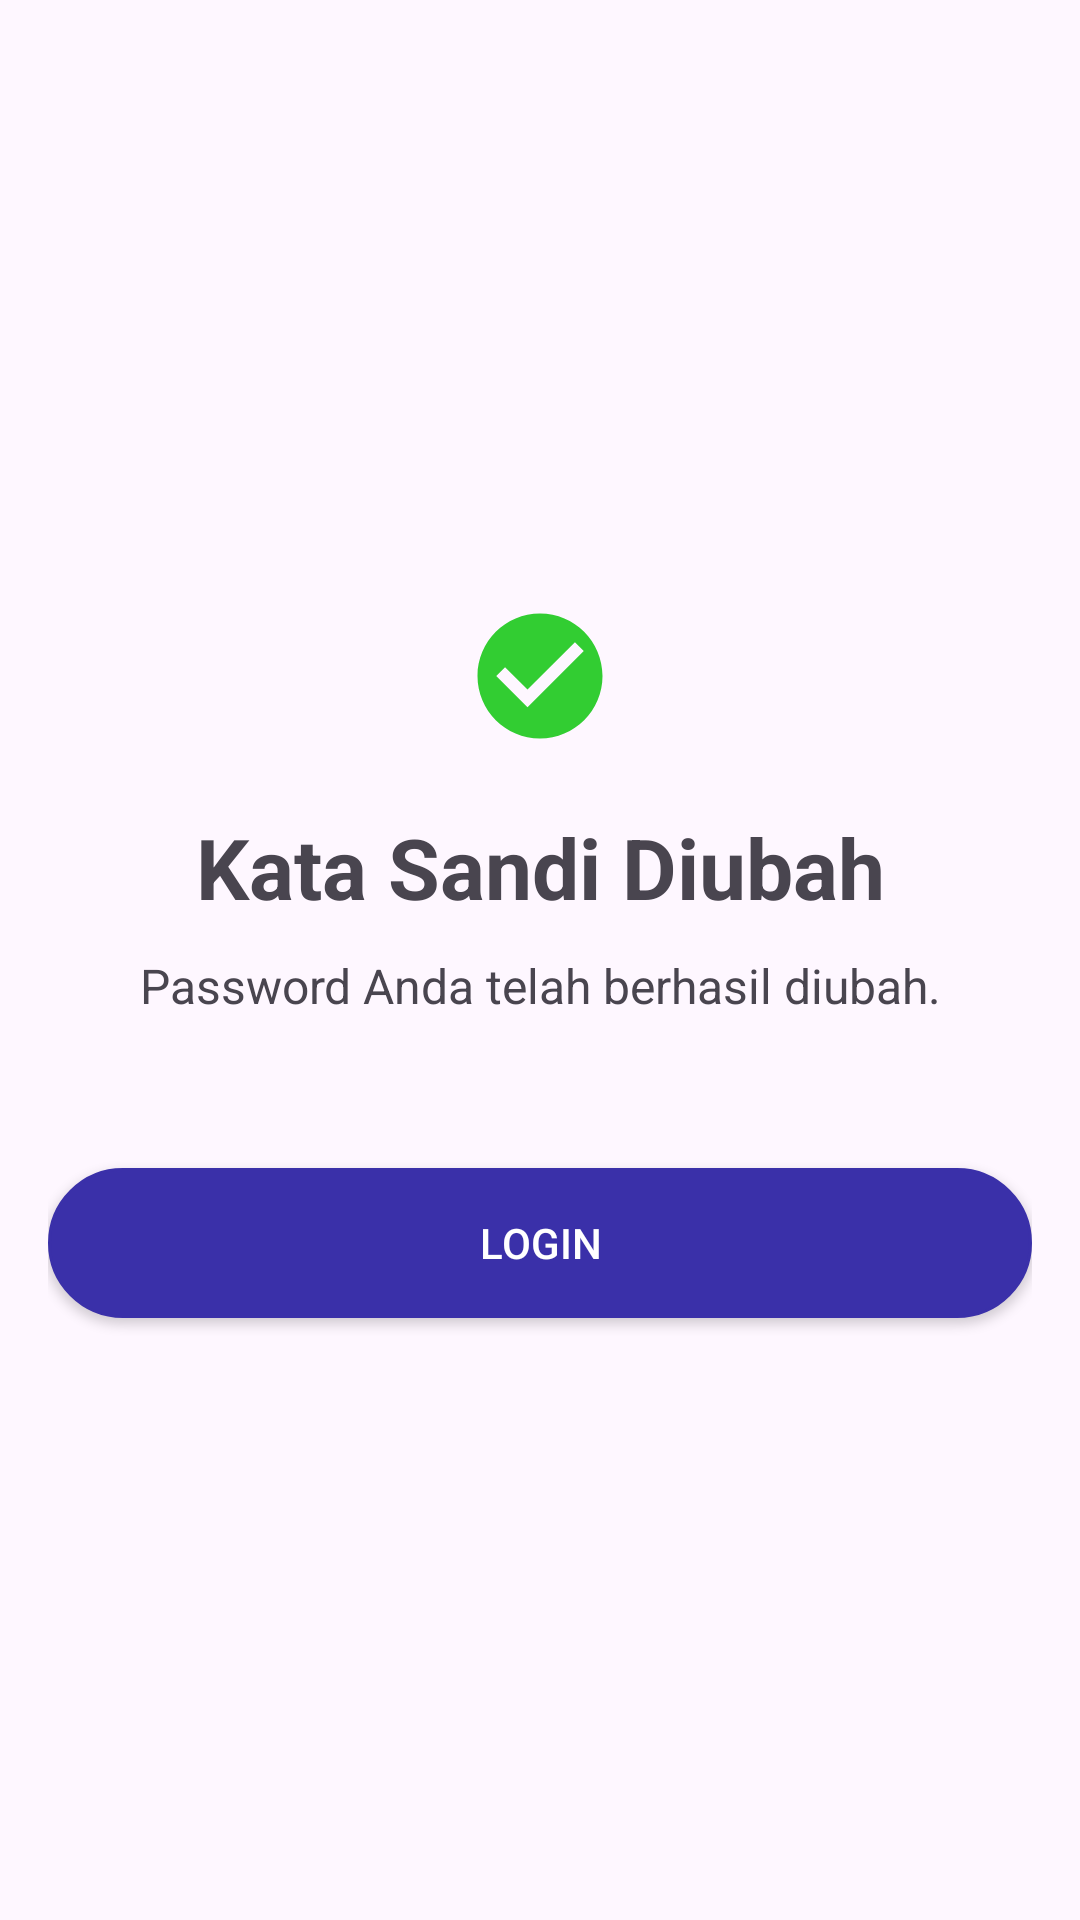

Screen size 1080 × 1920. Icon name, then its box in pixels as (x1, y1, x2, y2):
check circle: (477, 613, 603, 739)
